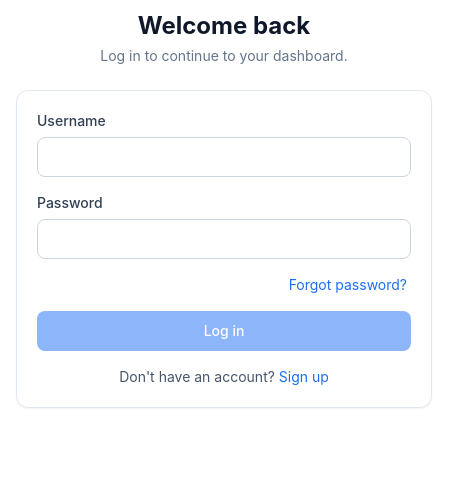
Test: LoginPage › shows an error message on failure
Type "jane" into the field labelled "Username".
click(224, 157); type("jane")  # box [37,137,411,177]
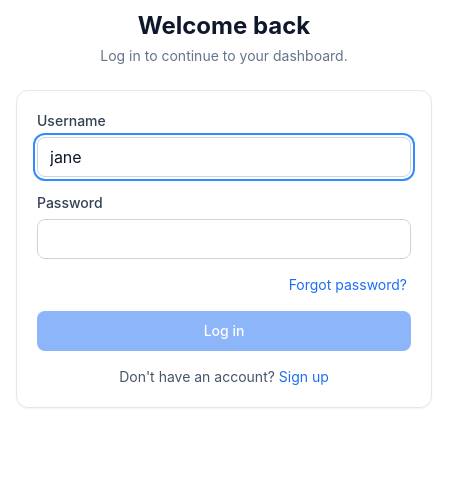
Type "wrong" into the password field labelled "Password".
click(224, 239); type("wrong")  # box [37,219,411,259]
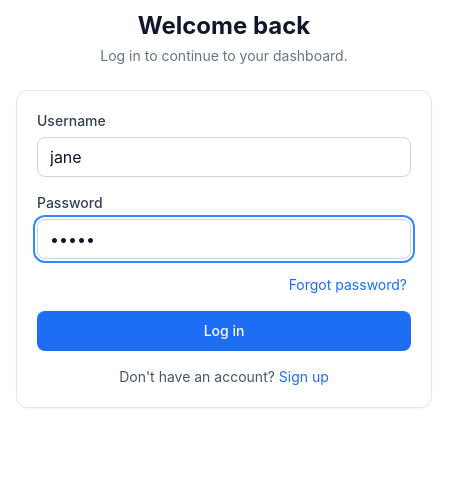
Click the button "Log in".
click(224, 331)  # box [37,311,411,351]
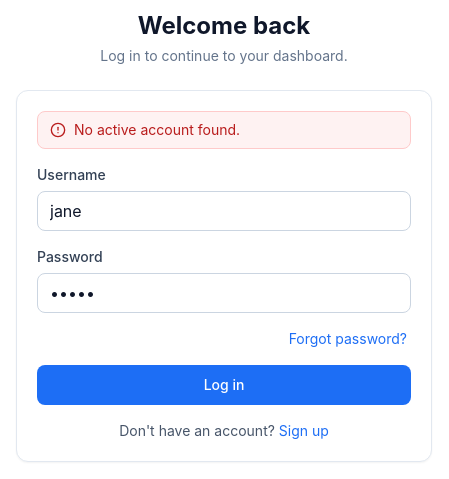
Expected: the text "No active account found." is shown, [74,120,240,140]
